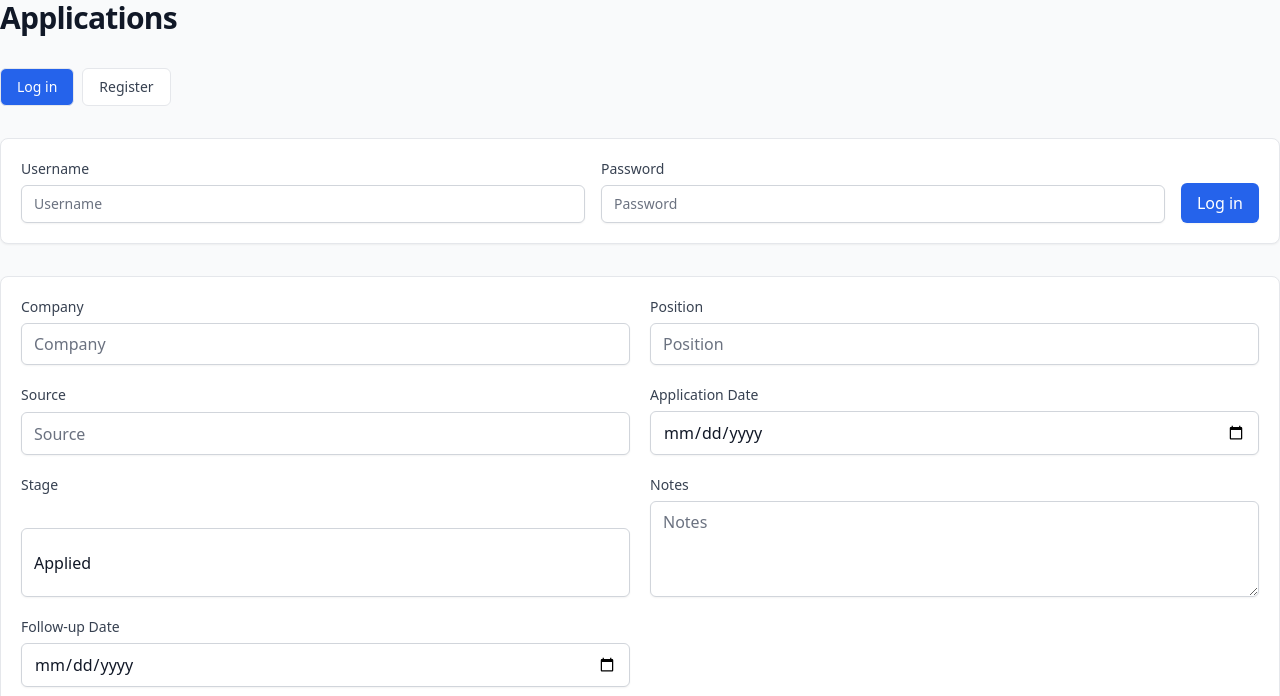
Test case: ApplicationsView › shows the duplicate username error
Click the button "Register" at (126, 87), box [82,68,171,106]
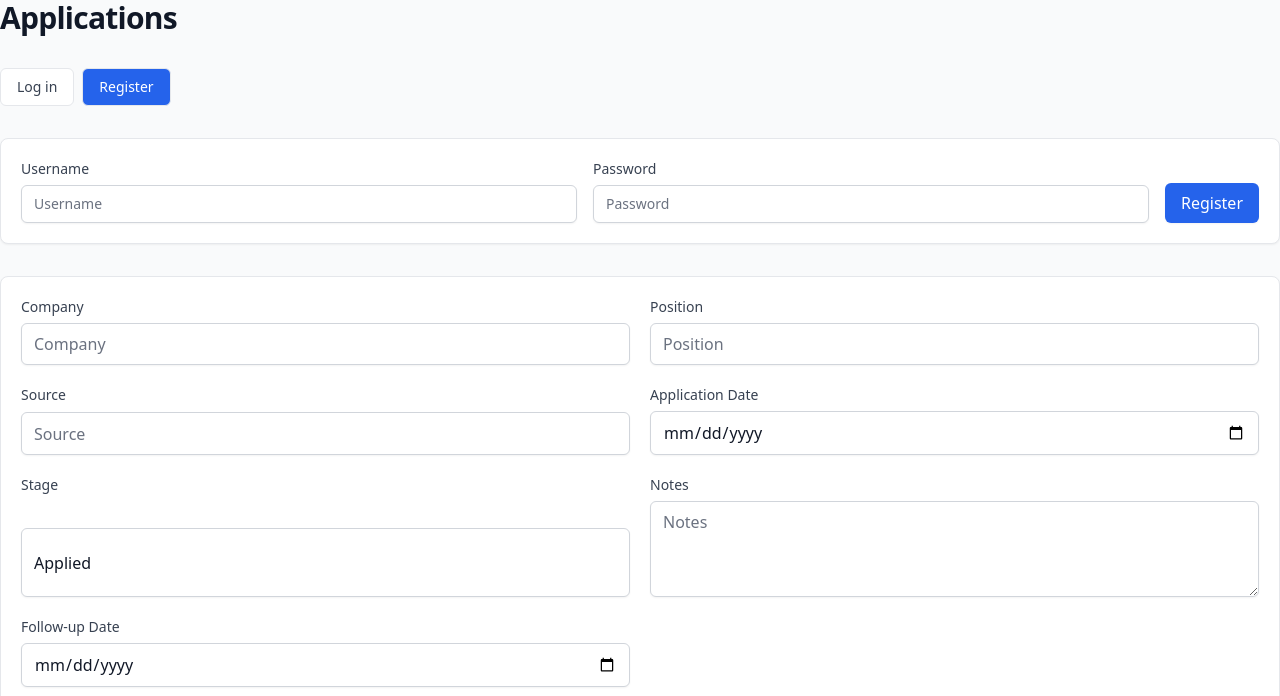
Type "existing-user" into the field with placeholder "Username" at (299, 204), box [21,185,577,223]
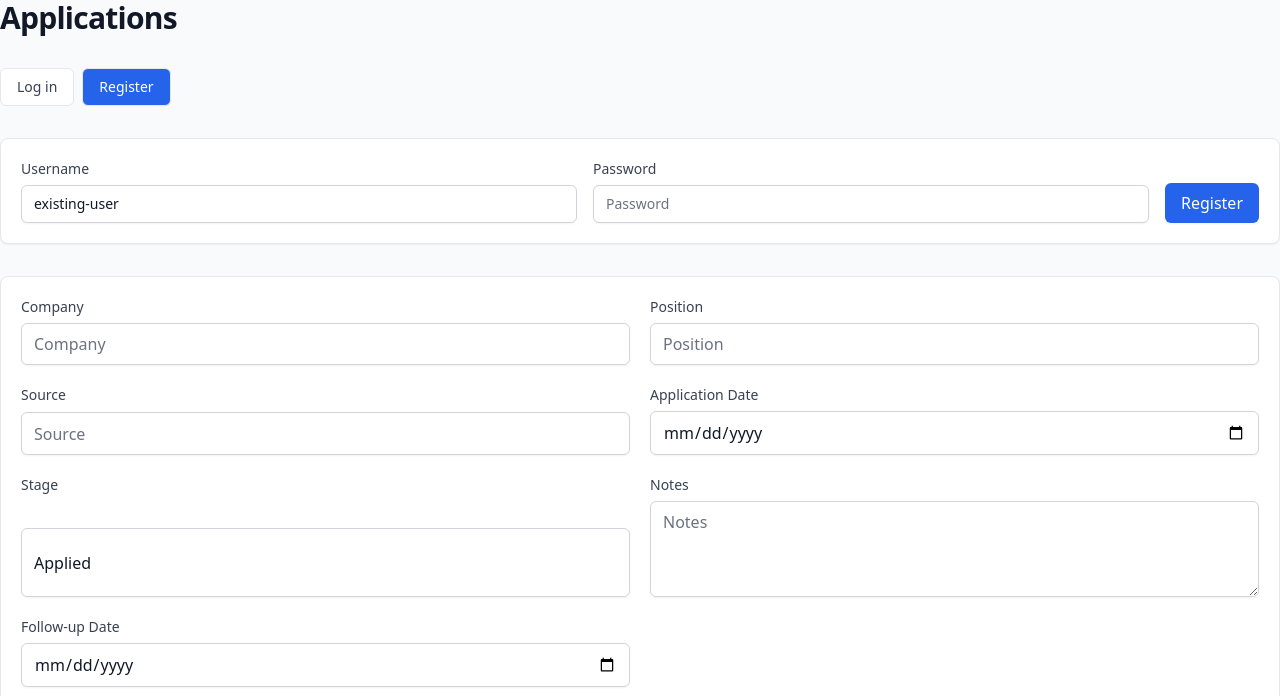
Type "password" into the password field with placeholder "Password" at (871, 204), box [593,185,1149,223]
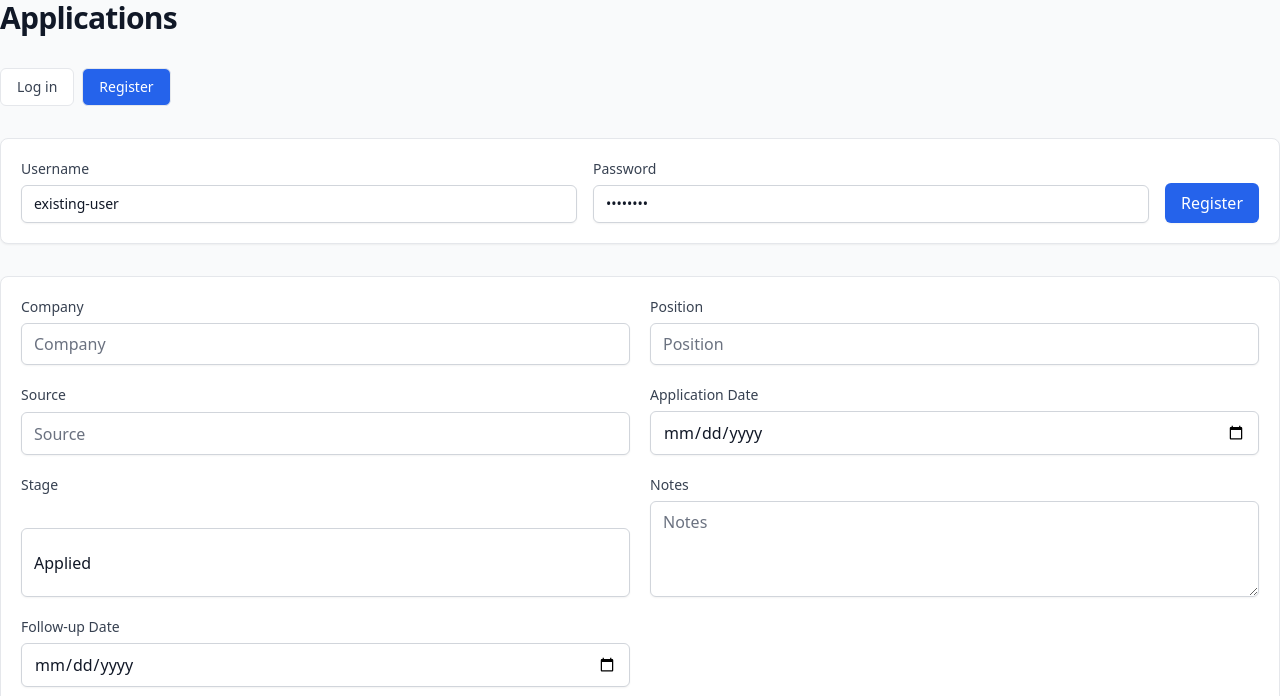
Submit the form with test id "register-form", box [0,138,1279,244]
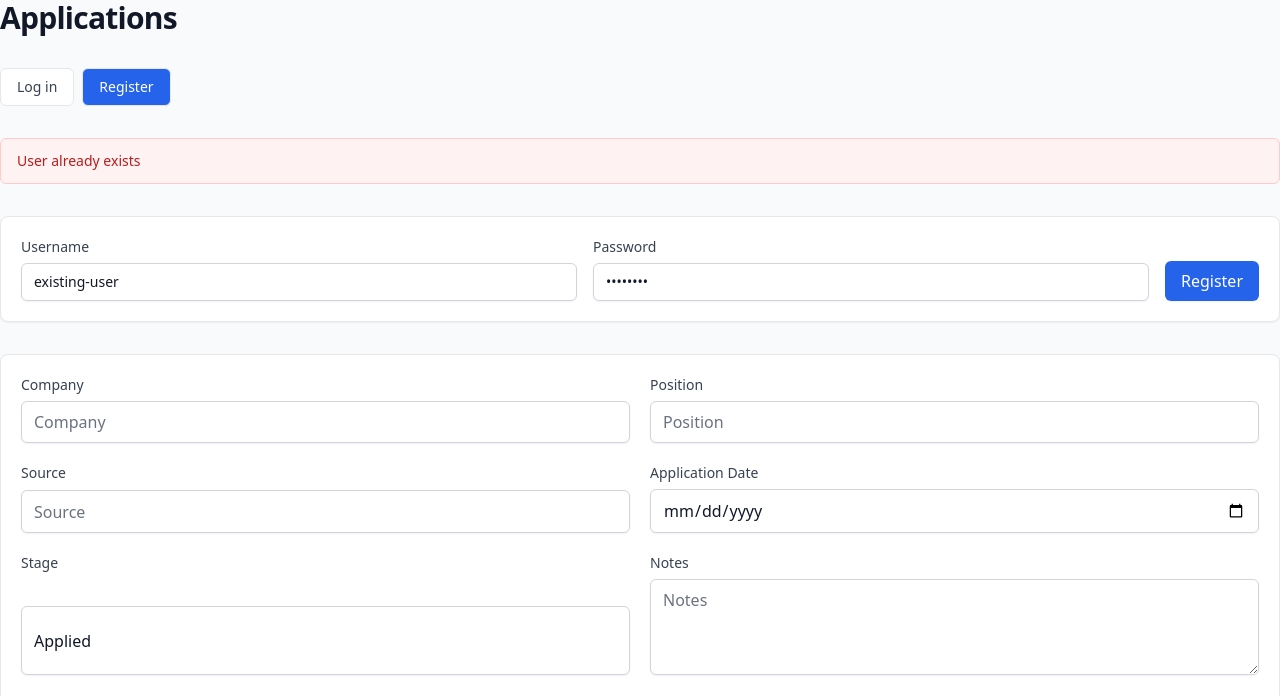
Check: the form with test id "register-form" is shown, box [0,216,1279,322]
Check: the message "User already exists" is shown, box [0,138,1279,184]
